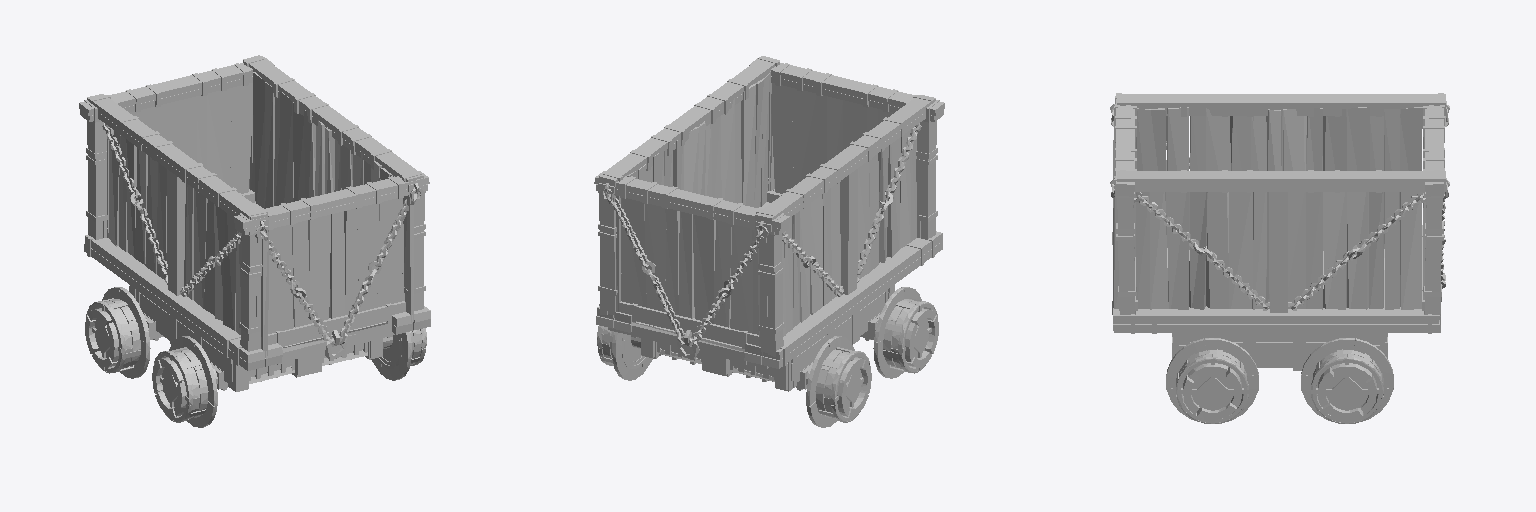
Rendered from LOD2_mine_wagon.obj.
3 renders of one model, left to right at view 1: azimuth 30°, elevation 25°; view 2: azimuth 150°, elevation 25°; view 3: azimuth 270°, elevation 25°, orthographic.
Visible parts, largest first — view 1: part13.035_Cube.055, part13.036_Cube.057, part2.011_Cylinder.010, part17.006_Cube.149, part17.009_Cube.150, part15.006_Cube.001, part12.006_Cube.152, part13.014_Cube.119, part15.001_Cube.154, part12.007_Cube.158, part12.003_Cube.151, part12.005_Cube.160; view 2: part13.035_Cube.055, part13.036_Cube.057, part2.011_Cylinder.010, part17.006_Cube.149, part12.006_Cube.152, part17.009_Cube.150, part15.006_Cube.001, part13.014_Cube.119, part15.001_Cube.154, part12.007_Cube.158, part12.003_Cube.151, part12.005_Cube.160; view 3: part13.035_Cube.055, part2.011_Cylinder.010, part17.006_Cube.149, part15.006_Cube.001, part12.006_Cube.152, part13.014_Cube.119, part17.009_Cube.150, part12.005_Cube.160, part12.003_Cube.151.
Part boxes in pixels (bbox=[...]): part13.035_Cube.055: bbox=[107, 72, 413, 357]; part13.036_Cube.057: bbox=[130, 83, 404, 333]; part2.011_Cylinder.010: bbox=[85, 287, 426, 427]; part17.006_Cube.149: bbox=[87, 55, 423, 226]; part17.009_Cube.150: bbox=[79, 58, 429, 234]; part15.006_Cube.001: bbox=[84, 202, 430, 370]; part12.006_Cube.152: bbox=[86, 120, 425, 351]; part13.014_Cube.119: bbox=[129, 285, 382, 391]; part15.001_Cube.154: bbox=[107, 189, 413, 364]; part12.007_Cube.158: bbox=[260, 194, 416, 346]; part12.003_Cube.151: bbox=[168, 170, 185, 295]; part12.005_Cube.160: bbox=[102, 123, 241, 296]; part13.035_Cube.055: bbox=[614, 71, 916, 355]; part13.036_Cube.057: bbox=[621, 83, 893, 334]; part2.011_Cylinder.010: bbox=[597, 287, 938, 427]; part17.006_Cube.149: bbox=[598, 56, 935, 231]; part12.006_Cube.152: bbox=[598, 120, 937, 356]; part17.009_Cube.150: bbox=[594, 58, 944, 234]; part15.006_Cube.001: bbox=[596, 202, 942, 368]; part13.014_Cube.119: bbox=[641, 285, 894, 391]; part15.001_Cube.154: bbox=[608, 189, 916, 368]; part12.007_Cube.158: bbox=[607, 194, 763, 346]; part12.003_Cube.151: bbox=[840, 169, 857, 294]; part12.005_Cube.160: bbox=[782, 123, 921, 296]; part13.035_Cube.055: bbox=[1112, 106, 1425, 314]; part2.011_Cylinder.010: bbox=[1166, 338, 1393, 423]; part17.006_Cube.149: bbox=[1117, 94, 1446, 192]; part15.006_Cube.001: bbox=[1113, 244, 1440, 333]; part12.006_Cube.152: bbox=[1116, 192, 1443, 314]; part13.014_Cube.119: bbox=[1172, 258, 1387, 370]; part17.009_Cube.150: bbox=[1115, 93, 1444, 196]; part12.005_Cube.160: bbox=[1134, 141, 1425, 310]; part12.003_Cube.151: bbox=[1269, 116, 1287, 312].
Size of the model in its own units: 13.96 by 13.04 by 16.78.